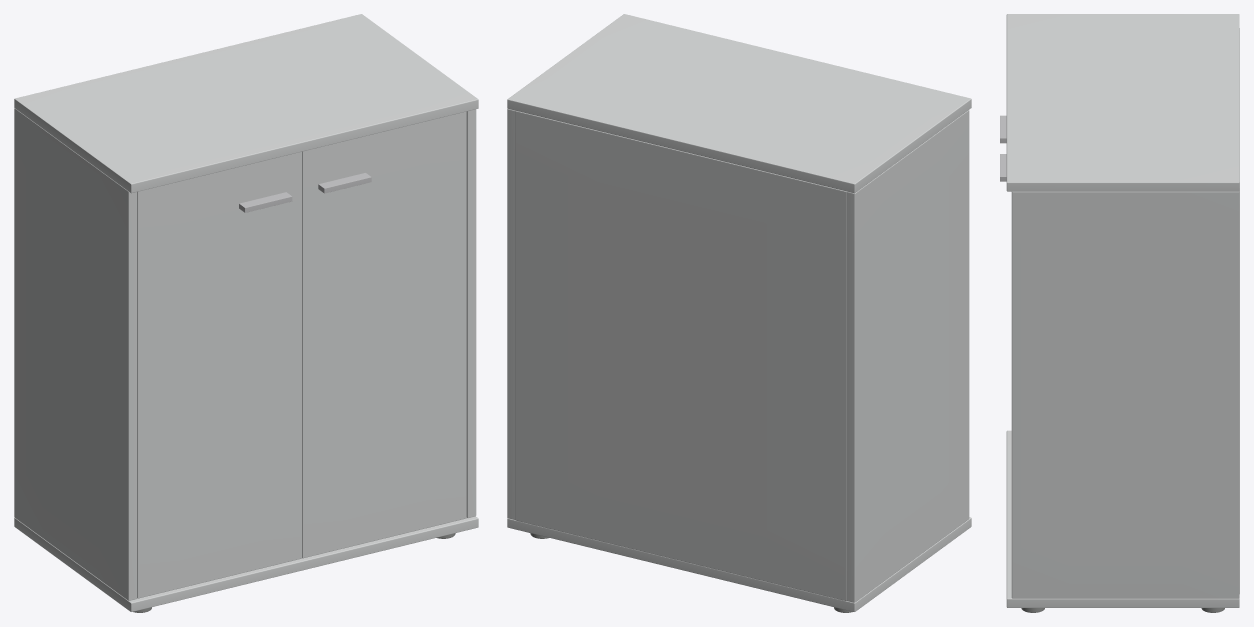
Rendered from 1773843867909-230252260-ASSET.glb.
3 views of the same model, side by side, from view 1: azimuth 30°, elevation 25°; view 2: azimuth 150°, elevation 25°; view 3: azimuth 270°, elevation 25° (orthographic).
Parts seen in each view (by area): view 1: ASSET; view 2: ASSET; view 3: ASSET.
Boxes of the visible parts, left/top/right/bottom form: ASSET: left=14, top=14, right=478, bottom=612; ASSET: left=507, top=14, right=971, bottom=612; ASSET: left=1000, top=14, right=1239, bottom=612.
Bounding box in the file's own units: 0.6 × 0.7234 × 0.3604.
Materials: 1 (1 with a texture image).
